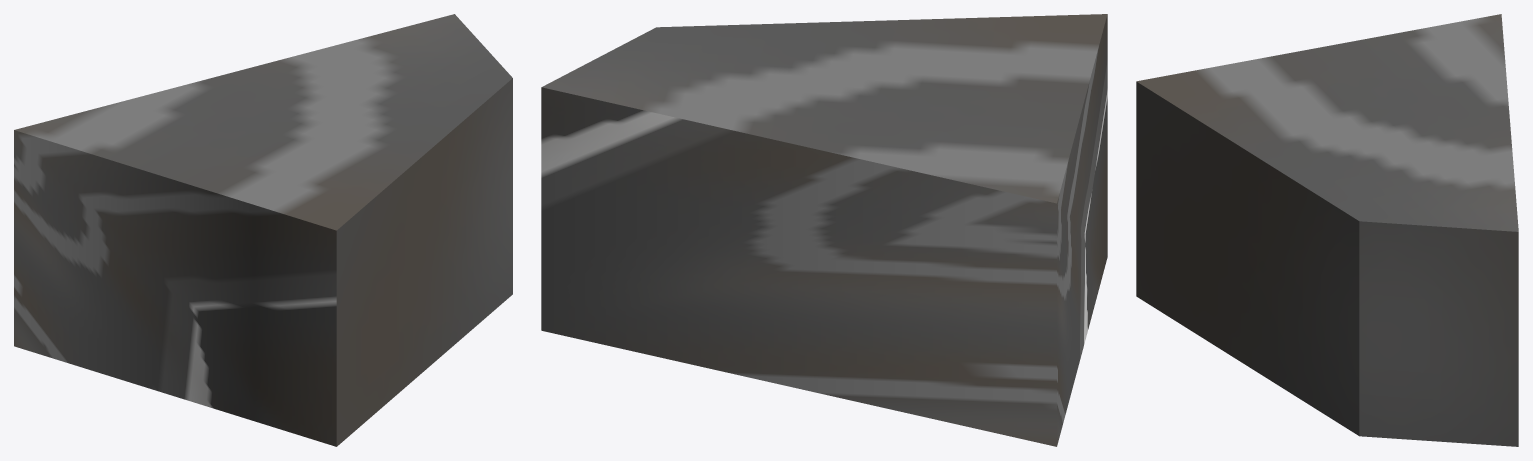
File: ishi_03.fbx
The picture shows the model from 3 angles, left to right: view 1: azimuth 30°, elevation 25°; view 2: azimuth 150°, elevation 25°; view 3: azimuth 270°, elevation 25°; orthographic projection. The views are drawn at different scales.
Parts seen in each view (by area): view 1: ishi_03; view 2: ishi_03; view 3: ishi_03.
Boxes of the visible parts, left/top/right/bottom form: ishi_03: left=14, top=14, right=512, bottom=446; ishi_03: left=541, top=14, right=1107, bottom=446; ishi_03: left=1136, top=14, right=1518, bottom=446.
Size of the model in its own units: 10.13 by 4.66 by 7.51.
Materials: 1 (1 with a texture image).
